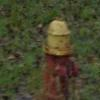Hydrant: (37, 9, 85, 100)
